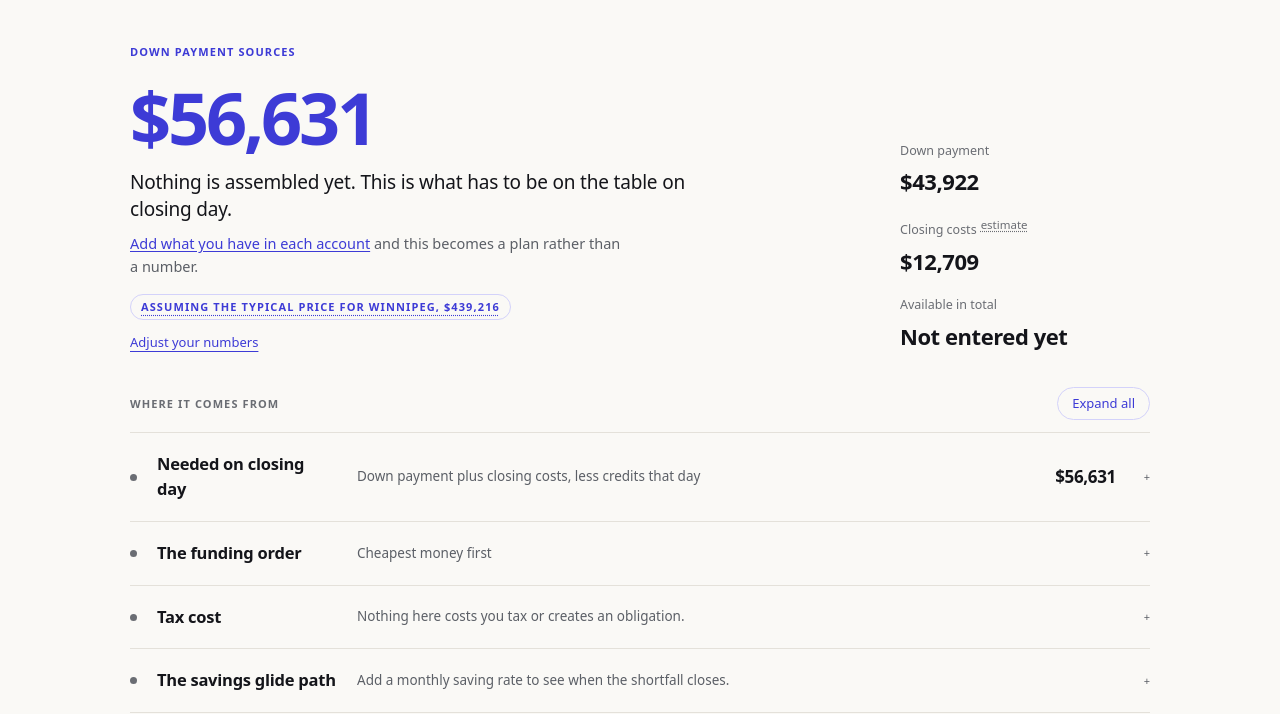
Down payment — the target › shows the legal minimum as a rule, not an opinion
The width and height of the screenshot is (1280, 714).
Click the button "Needed on closing day": coordinates (640, 477) [130,434,1150,521]
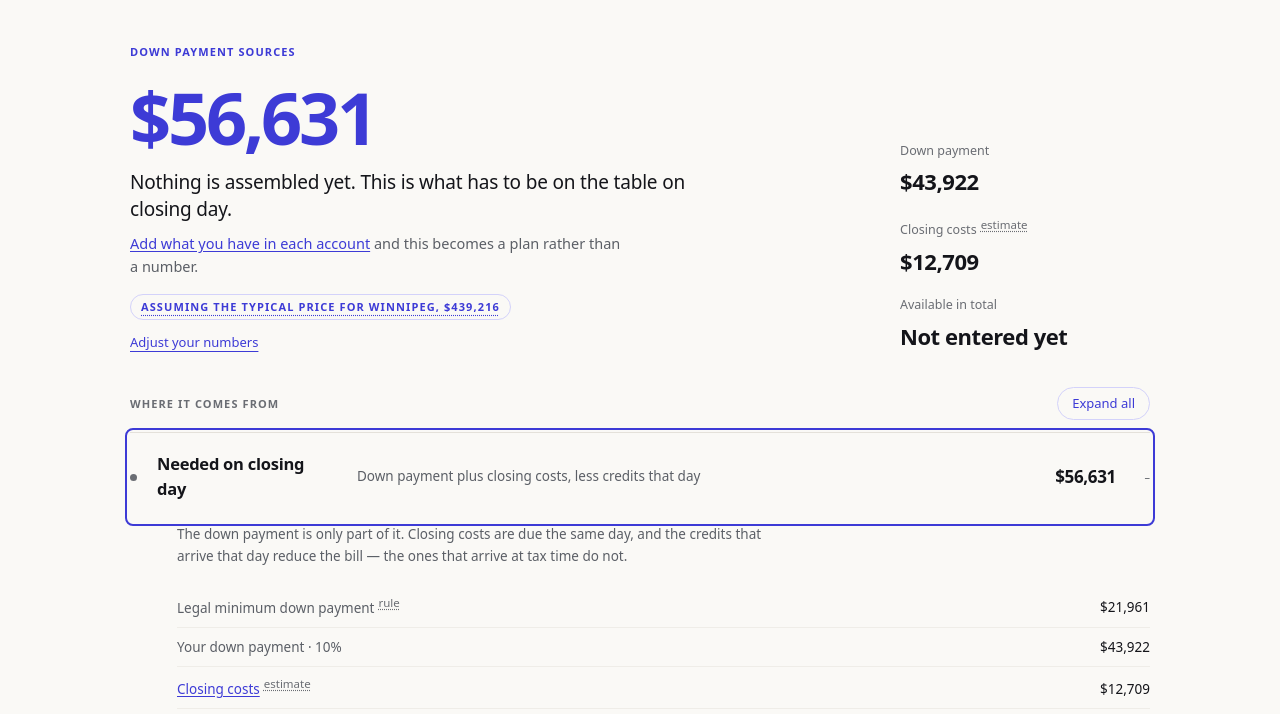
expect the text "Legal minimum down payment" is shown: met, box [177,598,374,616]
